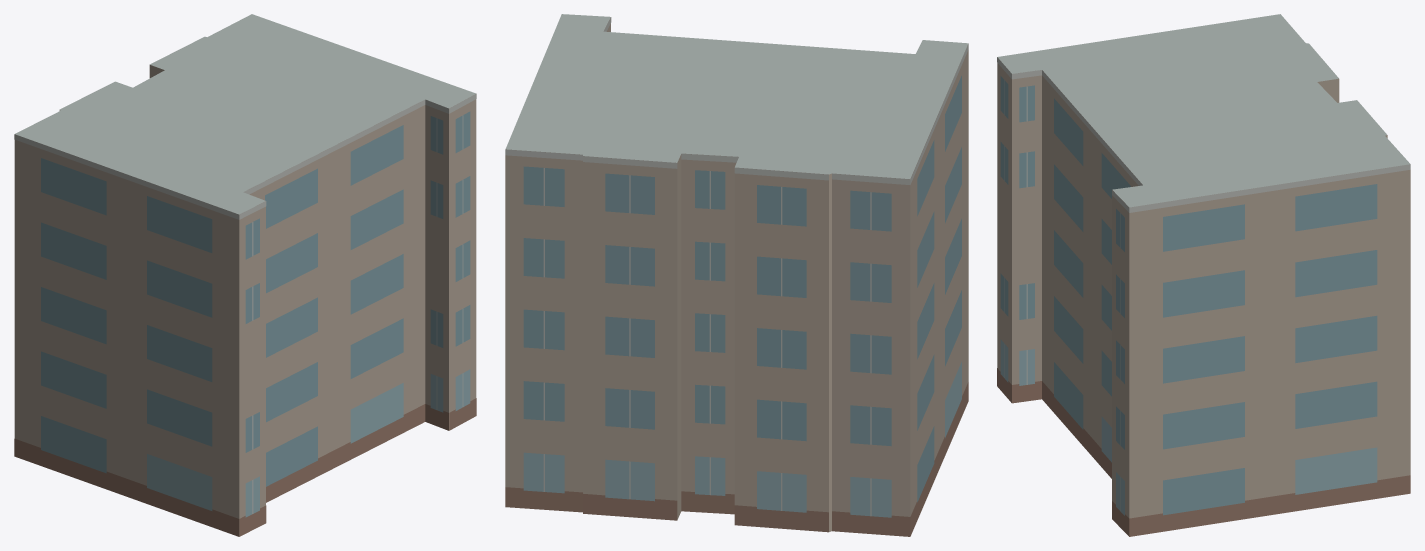
Rendered from survey-upis-33041205.glb.
3 renders of one model, left to right at view 1: azimuth 30°, elevation 25°; view 2: azimuth 150°, elevation 25°; view 3: azimuth 270°, elevation 25°, orthographic. The views are drawn at different scales.
Visible parts, largest first — view 1: survey-upis-33041205.tmp; view 2: survey-upis-33041205.tmp; view 3: survey-upis-33041205.tmp.
Boxes of the visible parts, x1,y1,x2,y2 form: survey-upis-33041205.tmp: [14, 14, 476, 536]; survey-upis-33041205.tmp: [505, 14, 968, 536]; survey-upis-33041205.tmp: [997, 14, 1410, 536].
Size of the model in its own units: 18.34 by 14.55 by 16.56.
